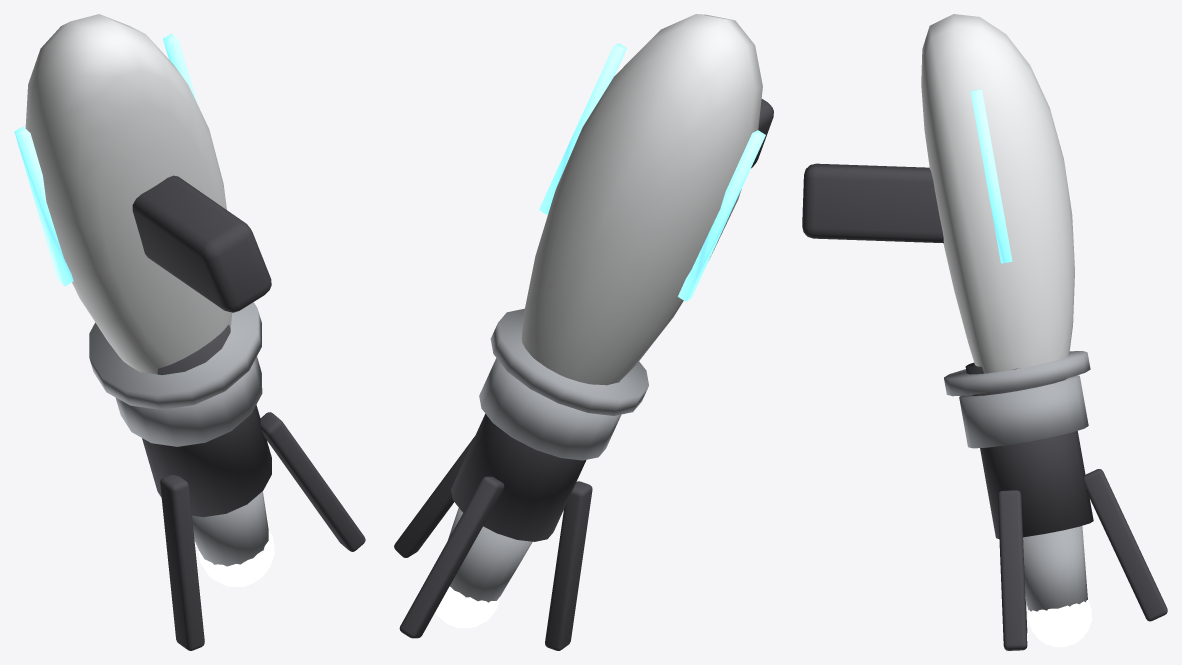
Rendered from gun_blue_held.gltf.
The picture shows the model from 3 angles, left to right: view 1: azimuth 30°, elevation 25°; view 2: azimuth 150°, elevation 25°; view 3: azimuth 270°, elevation 25°; orthographic projection. The views are drawn at different scales.
Visible parts, largest first — view 1: gun_blue; view 2: gun_blue; view 3: gun_blue.
Part boxes in pixels (x1,y1,x2,y2): gun_blue: [14, 14, 365, 650]; gun_blue: [394, 14, 773, 650]; gun_blue: [802, 14, 1167, 650].
Bounding box in the file's own units: 0.2411 × 0.4264 × 0.2504.
